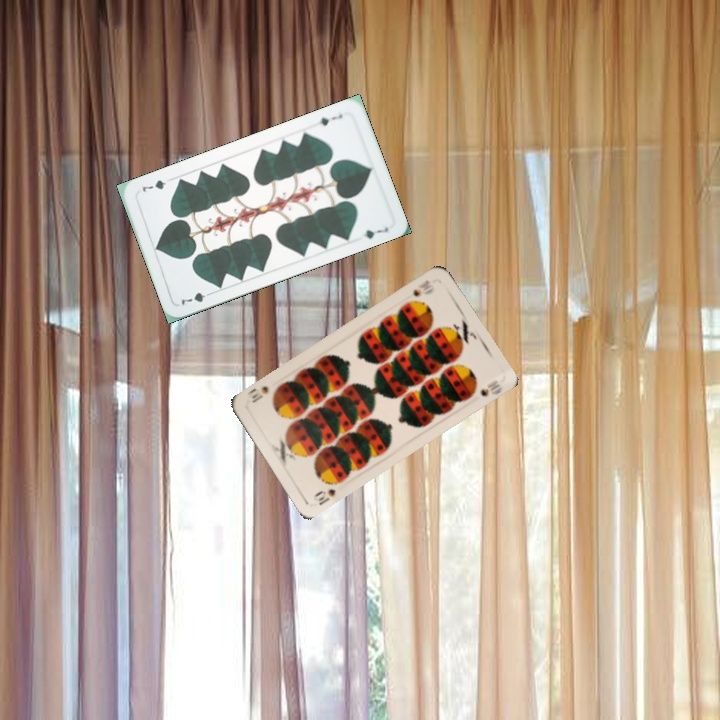G7: (177, 288, 216, 308), (310, 110, 345, 128)
S10: (309, 485, 338, 508), (409, 276, 437, 299)
